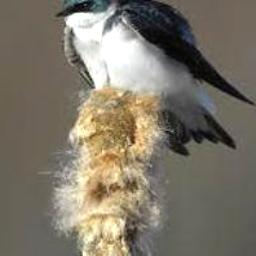Swallow: (50, 0, 256, 155)
